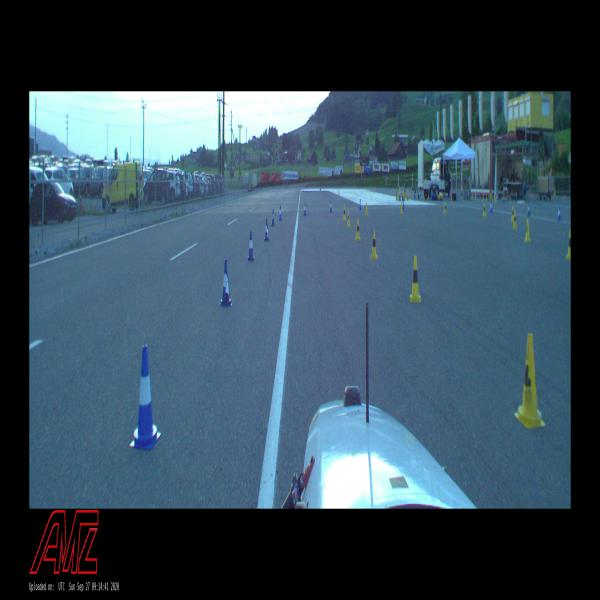blue_cone: (130, 344, 161, 451), (220, 260, 232, 307), (247, 230, 255, 262), (264, 219, 270, 242), (272, 209, 276, 226), (527, 203, 531, 216), (279, 205, 282, 220), (558, 206, 561, 221), (359, 199, 362, 210), (304, 203, 306, 216), (330, 200, 332, 212), (490, 201, 492, 212)
yellow_cone: (514, 333, 546, 428), (410, 256, 421, 302), (370, 230, 378, 260), (524, 220, 531, 242), (566, 229, 571, 259), (355, 219, 361, 240), (513, 210, 517, 229), (346, 210, 350, 228), (511, 206, 514, 221), (343, 205, 346, 220), (483, 203, 486, 217), (365, 202, 368, 216), (400, 201, 403, 214), (444, 202, 446, 215)
